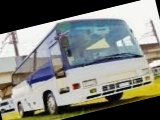bus: (0, 5, 156, 120)
